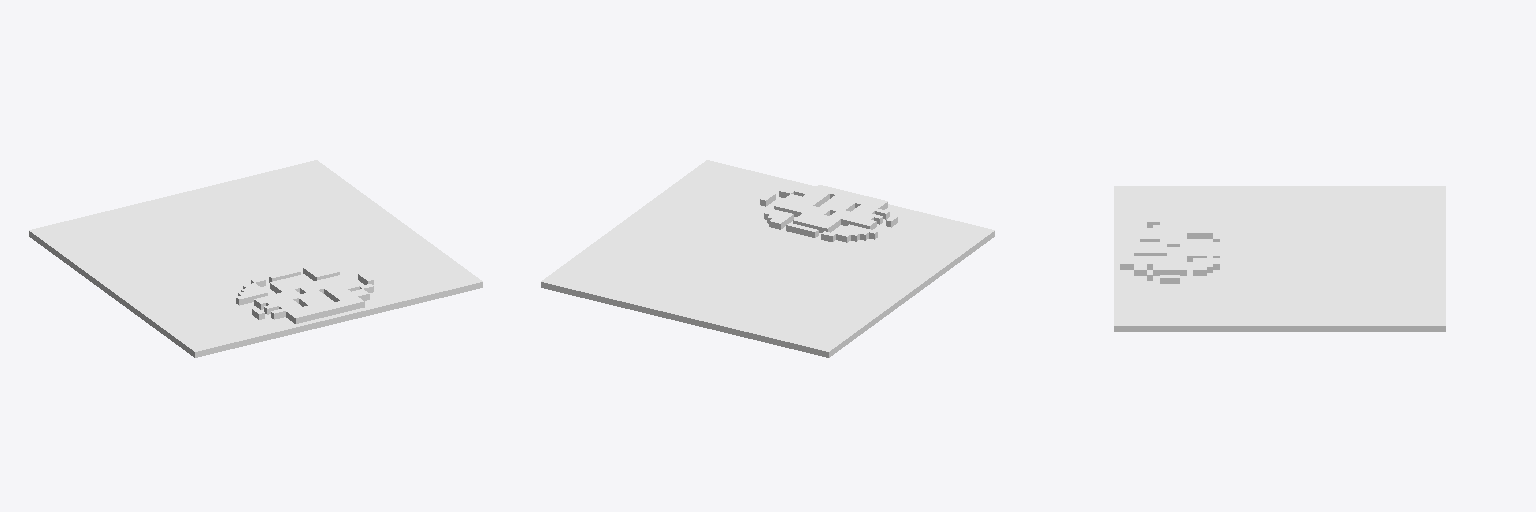
File: Cell_Block_Menu_floor.obj
3 views of the same model, side by side, from view 1: azimuth 30°, elevation 25°; view 2: azimuth 150°, elevation 25°; view 3: azimuth 270°, elevation 25° (orthographic).
Bounding box in the file's own units: 50 × 2 × 50.